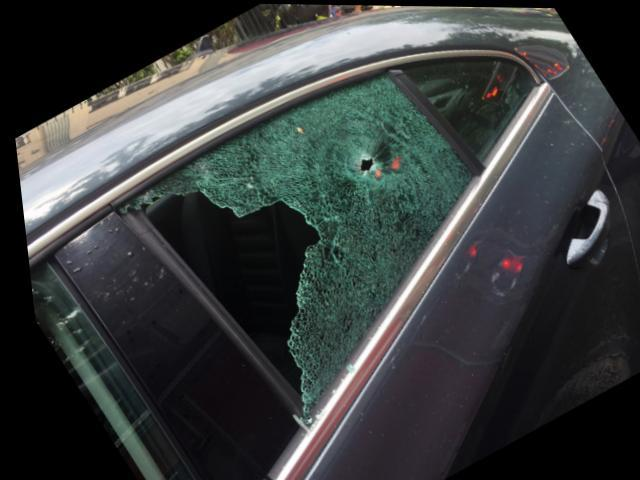glass shatter: (111, 73, 471, 419)
